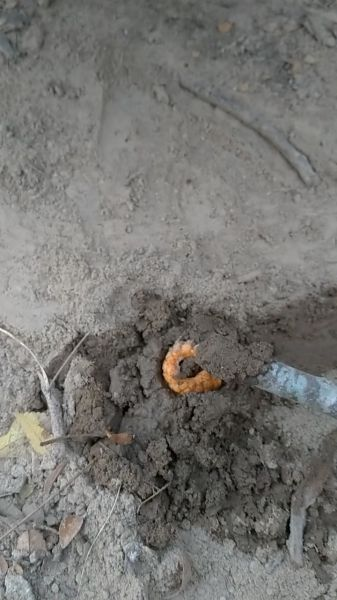eggs: (156, 333, 230, 399)
